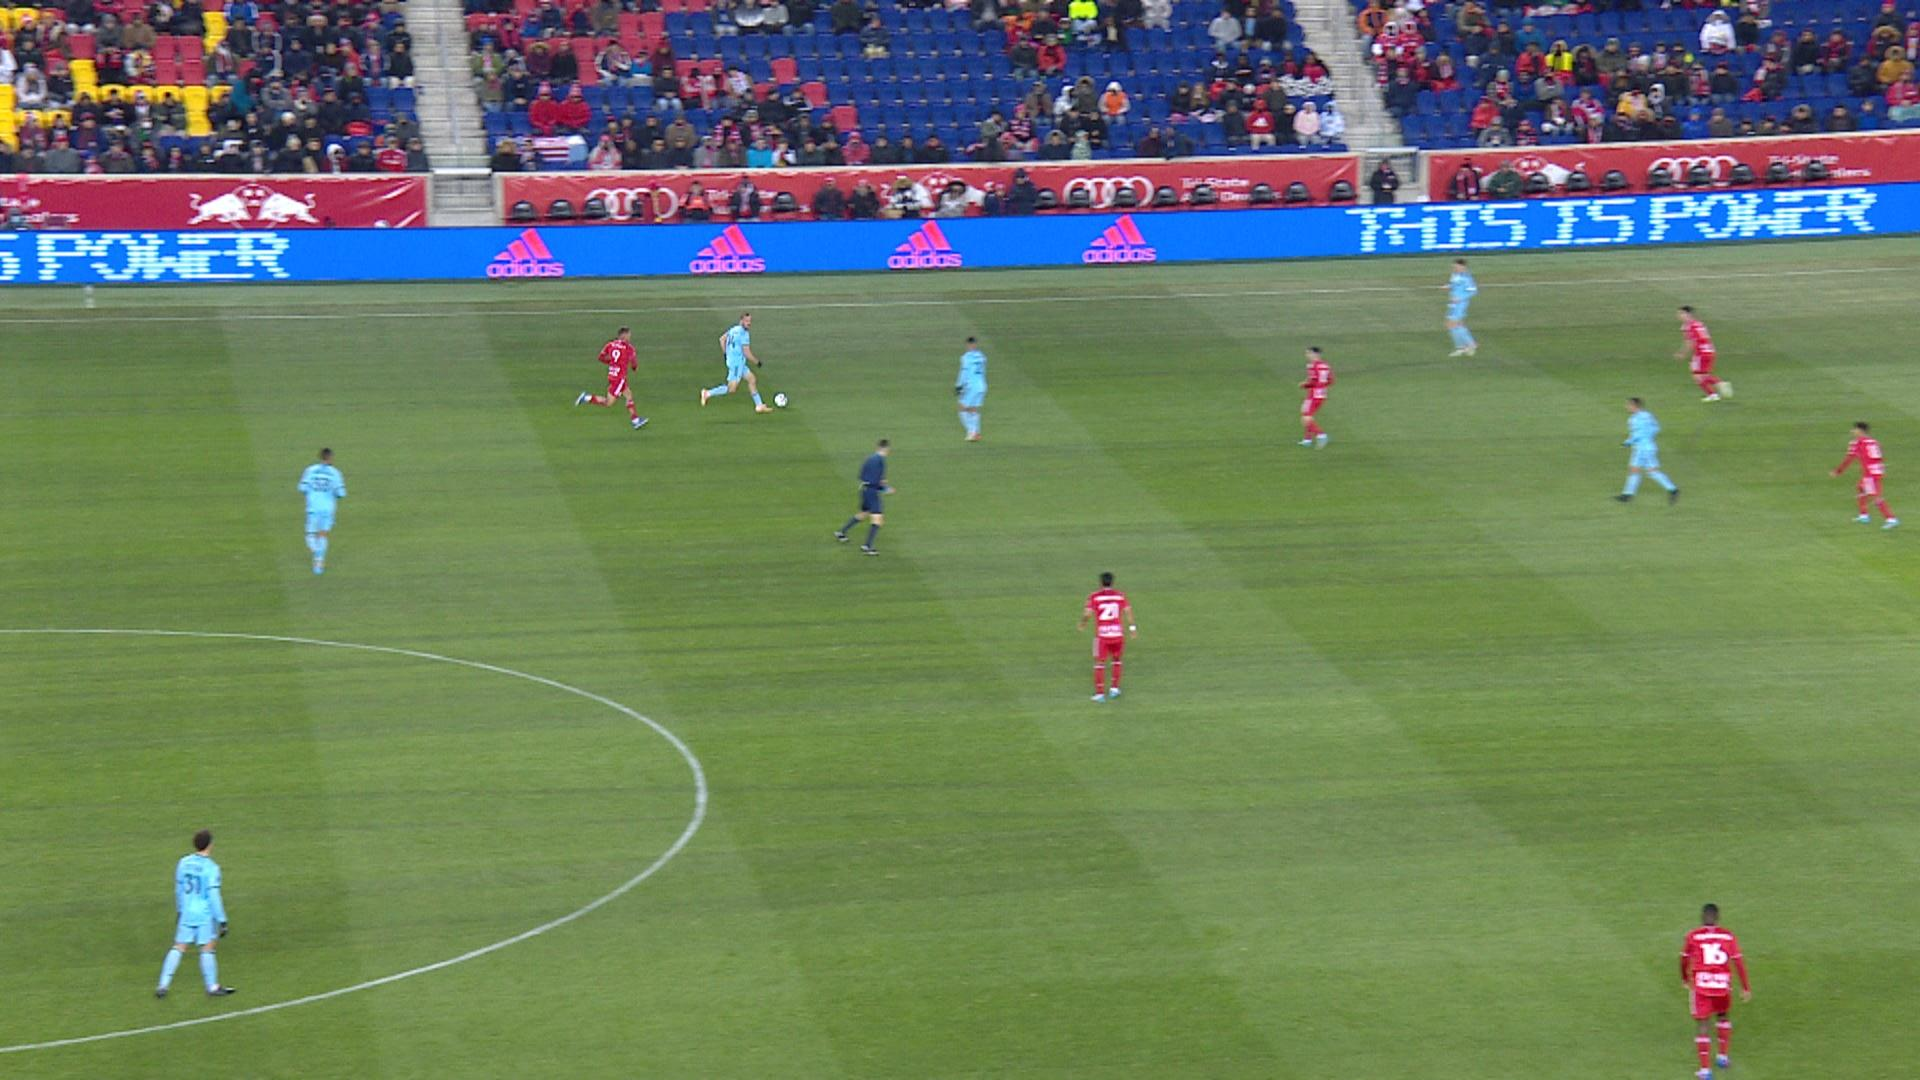football: (774, 392, 790, 409)
